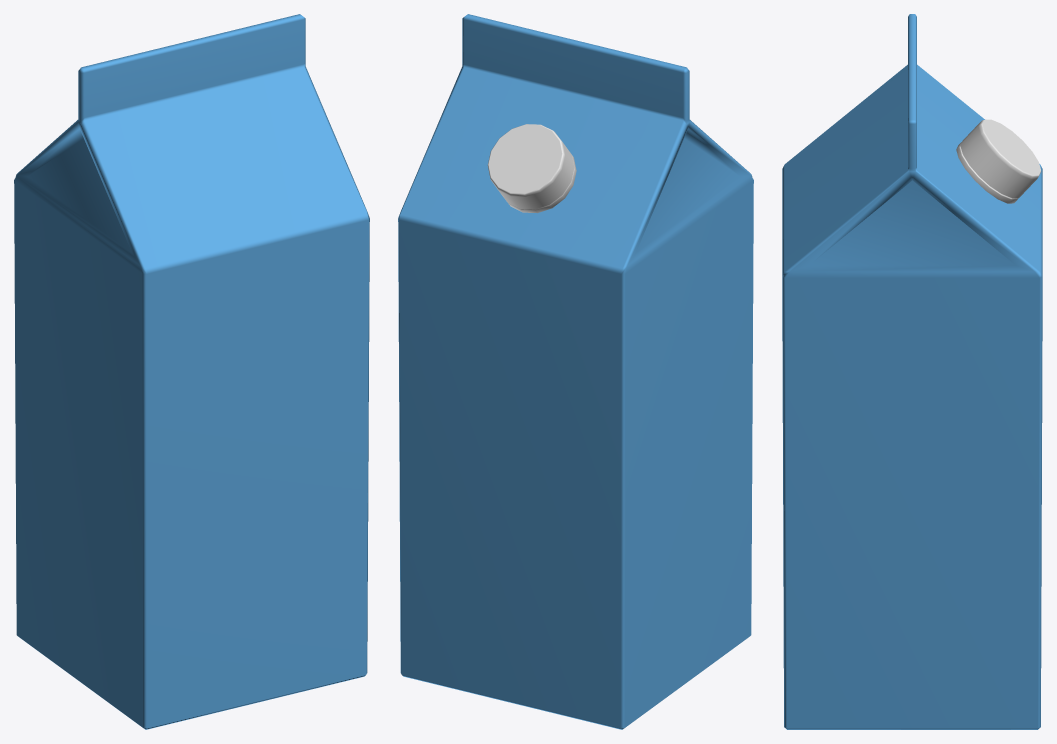
File: PacoteLeiteModel.fbx
3 renders of one model, left to right at view 1: azimuth 30°, elevation 25°; view 2: azimuth 150°, elevation 25°; view 3: azimuth 270°, elevation 25°, orthographic.
Visible parts, largest first — view 1: LeitePacote; view 2: LeitePacote, LeiteTampa; view 3: LeitePacote, LeiteTampa.
Part boxes in pixels (box(x1,y1,x2,y2)): LeitePacote: box(14, 14, 369, 729); LeitePacote: box(398, 14, 753, 729); LeiteTampa: box(487, 124, 576, 213); LeitePacote: box(782, 14, 1042, 729); LeiteTampa: box(956, 119, 1041, 203).
Size of the model in its own units: 203 by 524 by 203.
